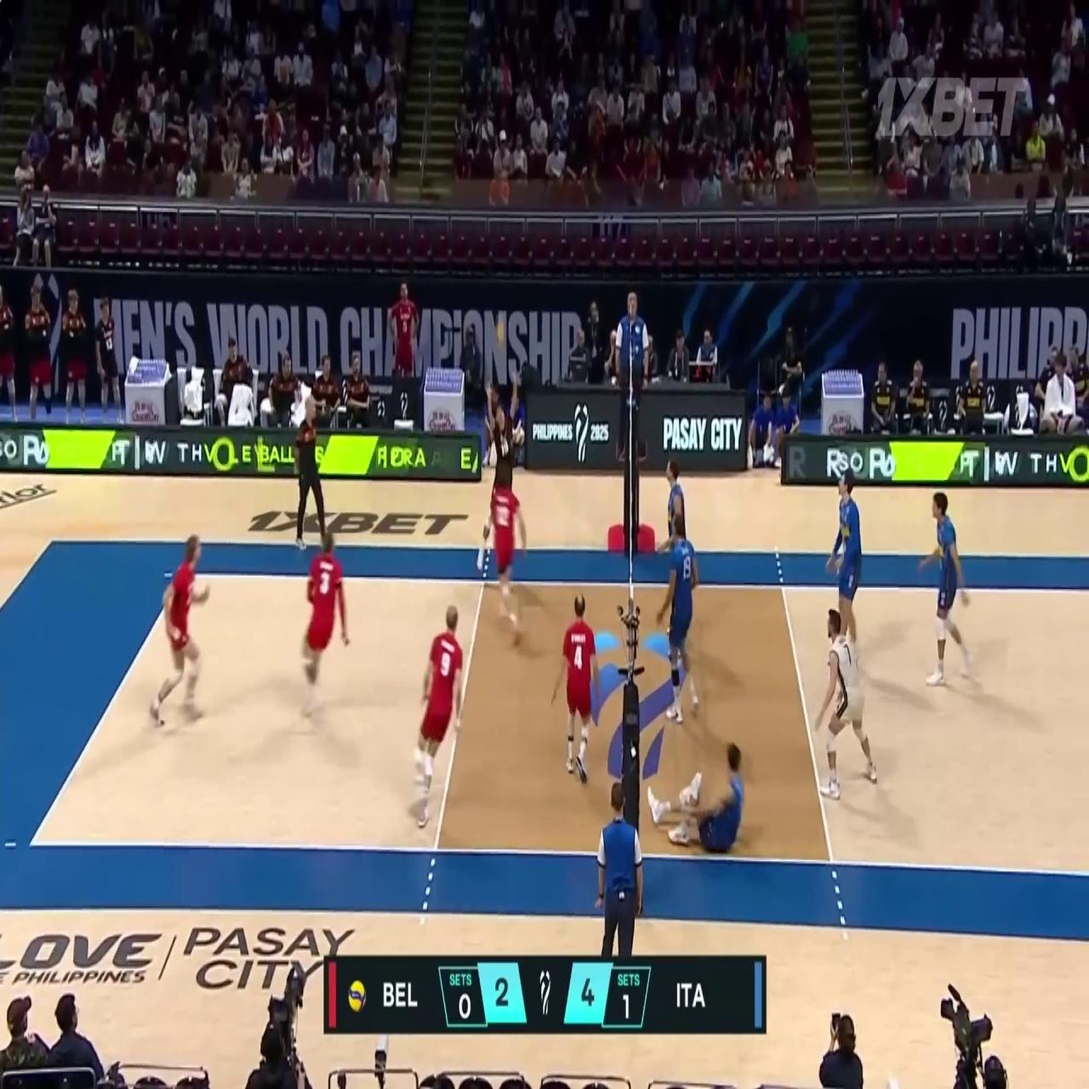ball: (496, 319, 506, 347)
